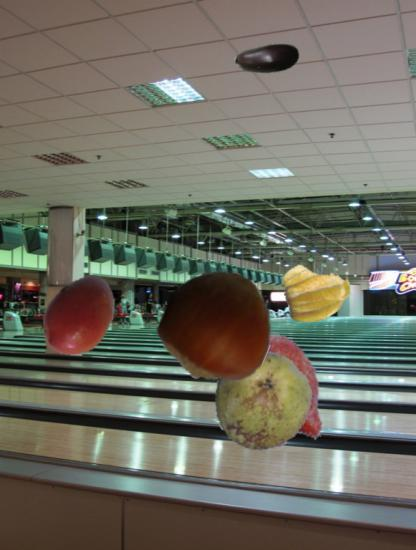Eggplant: (234, 26, 301, 93)
Nut: (160, 269, 275, 384)
Pear: (212, 350, 313, 451)
Physalis: (284, 256, 352, 324)
Potato: (37, 273, 124, 360)
Salak: (222, 325, 346, 449)
